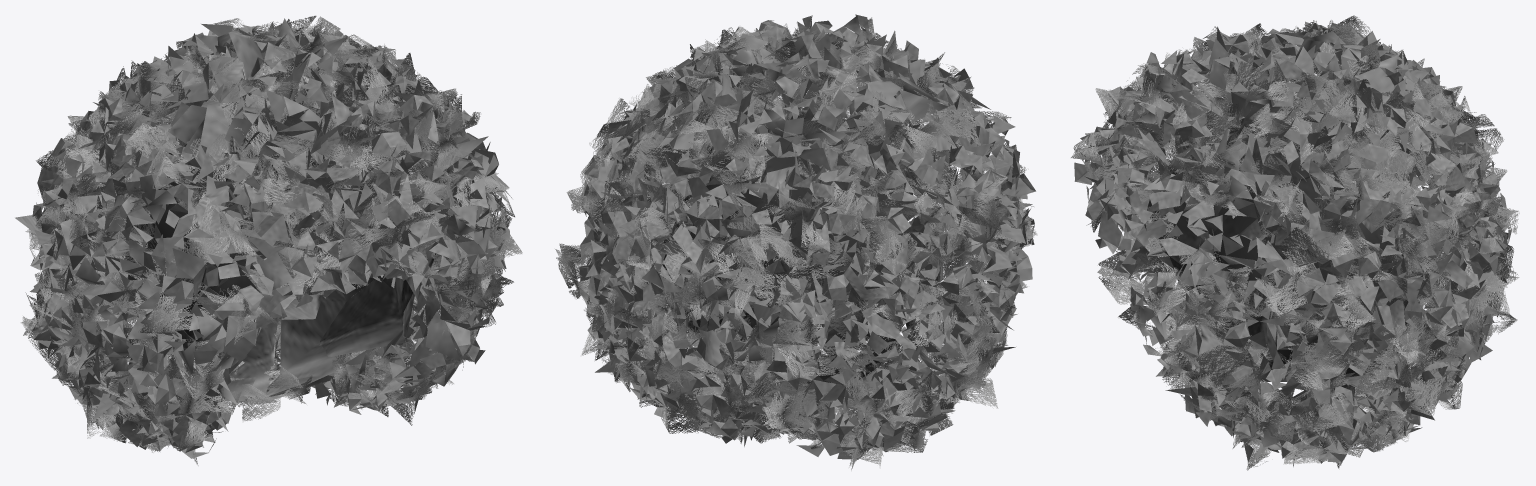
Rendered from hair_afro.glb.
3 renders of one model, left to right at view 1: azimuth 30°, elevation 25°; view 2: azimuth 150°, elevation 25°; view 3: azimuth 270°, elevation 25°, orthographic. The views are drawn at different scales.
Parts seen in each view (by area): view 1: Mesh_0, haircards; view 2: Mesh_0, haircards; view 3: Mesh_0, haircards.
Boxes of the visible parts, x1,y1,x2,y2 form: Mesh_0: (15,18,512,458); haircards: (20,15,522,465); Mesh_0: (579,14,1035,470); haircards: (555,17,1037,468); Mesh_0: (1074,21,1511,466); haircards: (1071,15,1519,470).
Size of the model in its own units: 0.2548 by 0.2209 by 0.2369.
2 materials, 2 textured.
